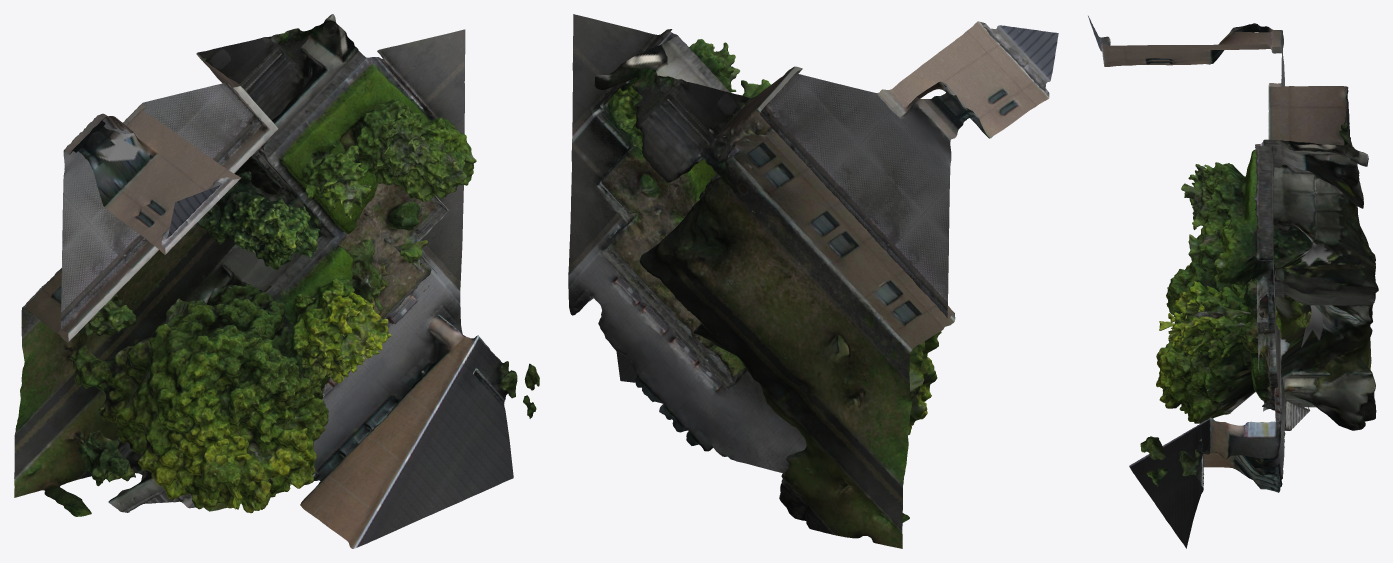
Rendered from Tile_+012_+013.fbx.
3 views of the same model, side by side, from view 1: azimuth 30°, elevation 25°; view 2: azimuth 150°, elevation 25°; view 3: azimuth 270°, elevation 25° (orthographic). The views are drawn at different scales.
Parts seen in each view (by area): view 1: DefaultName; view 2: DefaultName; view 3: DefaultName.
Part boxes in pixels (x1,y1,x2,y2): DefaultName: (14, 14, 539, 548); DefaultName: (568, 14, 1058, 548); DefaultName: (1088, 16, 1378, 548).
Size of the model in its own units: 22.54 by 22.54 by 16.33.
